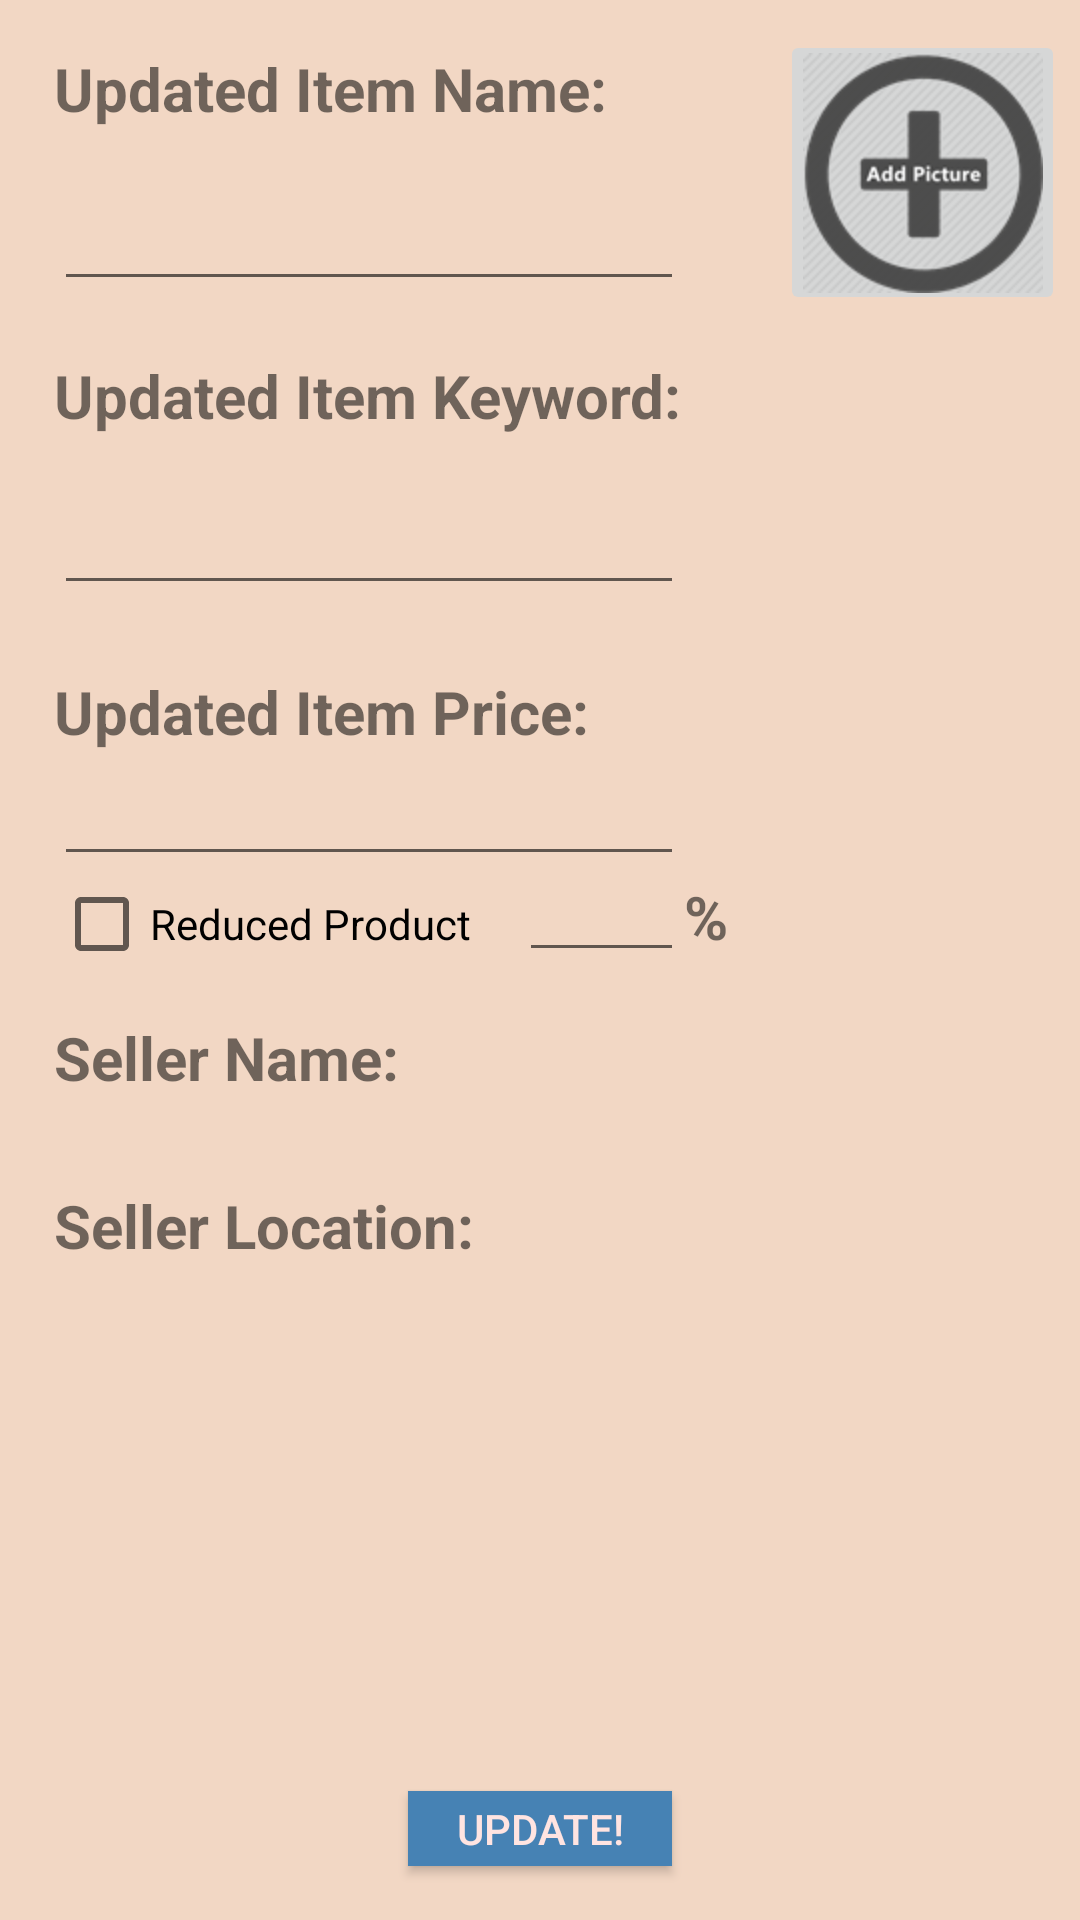

Screen size 1080*1920. Icon name, then its box in pixels as BBox(x1, y1, x2, y2):
photobg: BBox(792, 48, 1053, 297)
